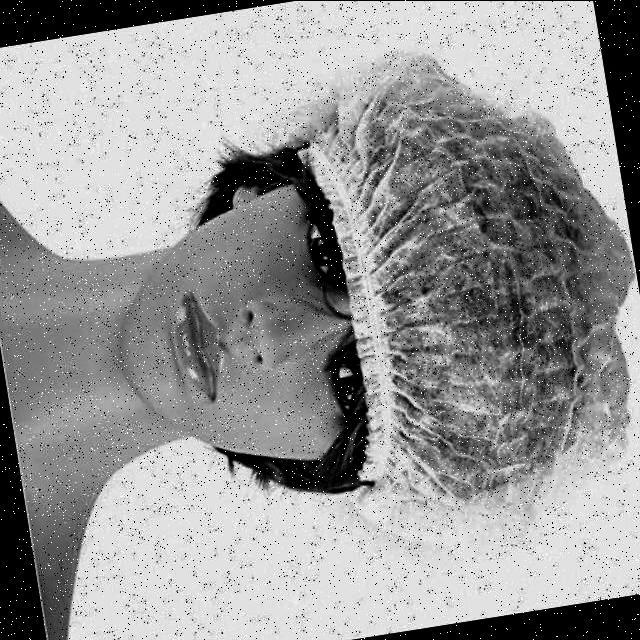gloves: (304, 68, 640, 523)
no_hairnet: (166, 264, 308, 426)
